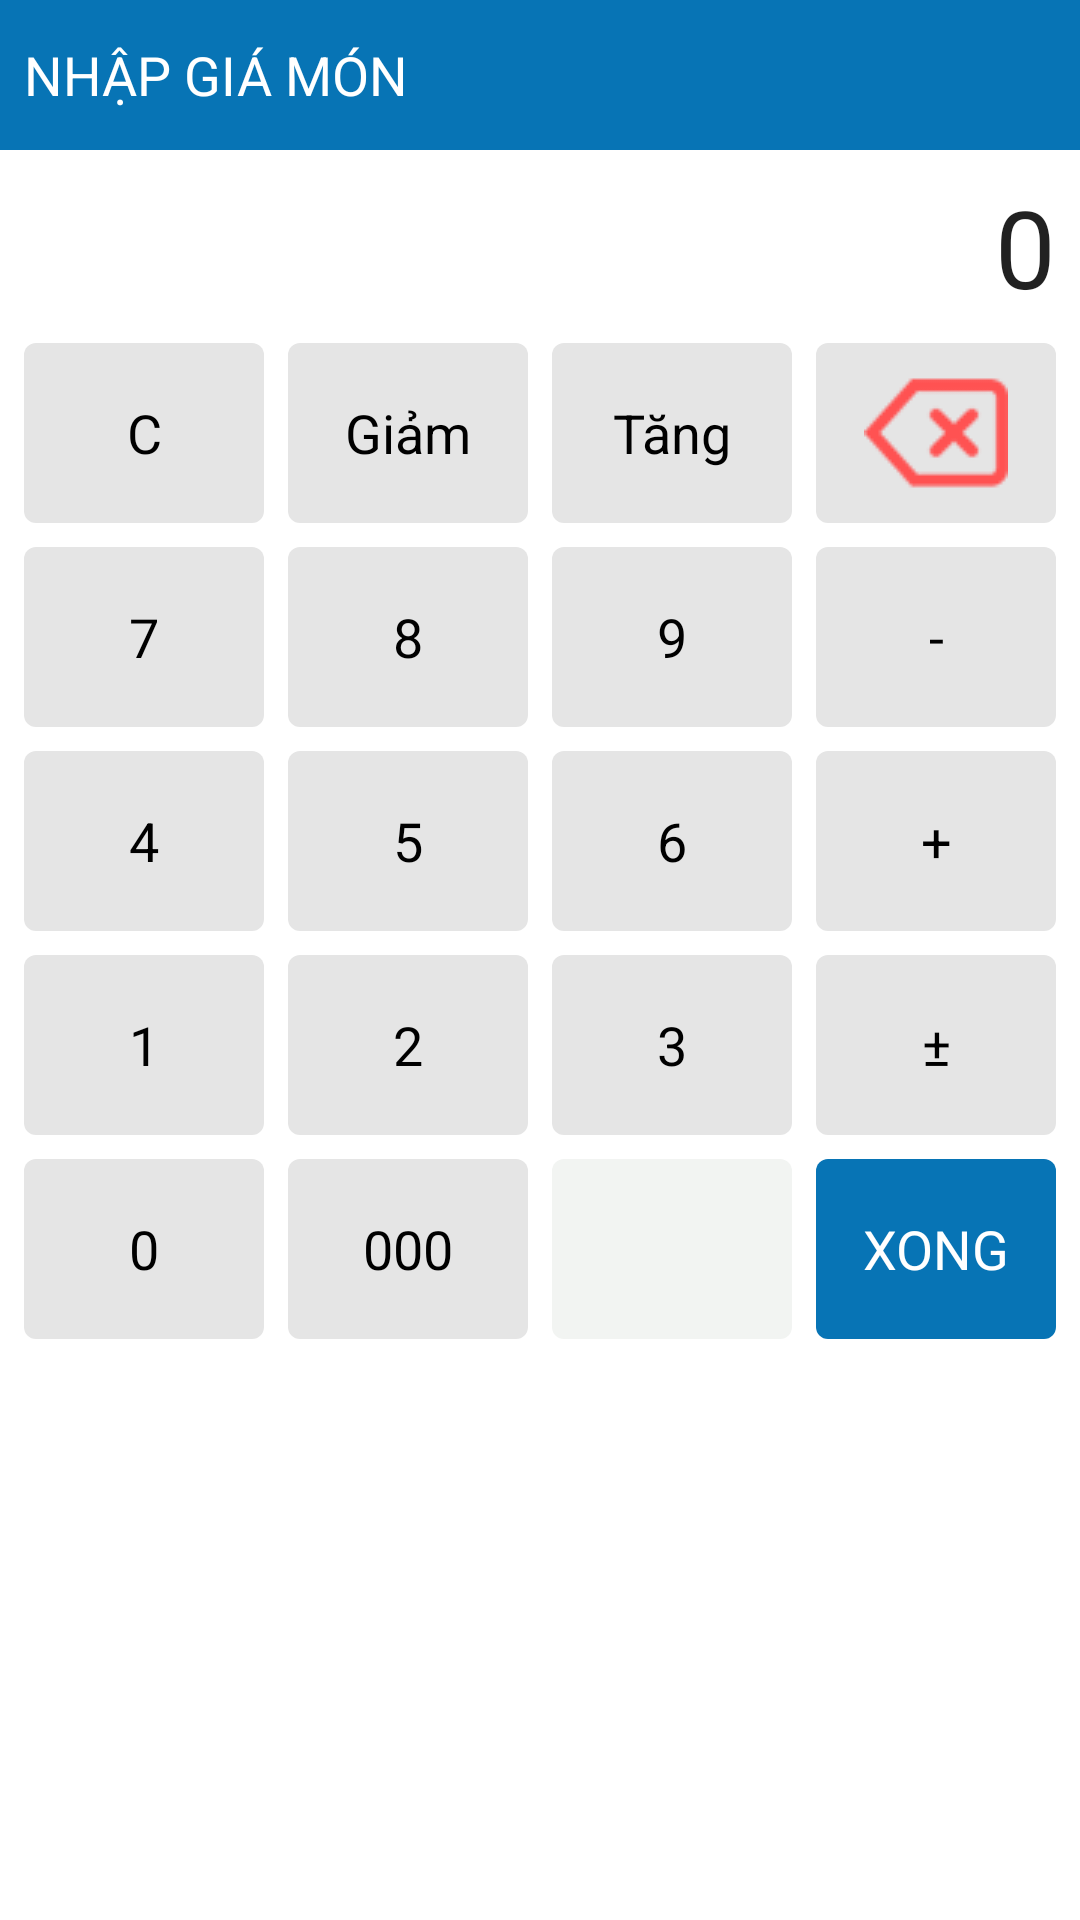

Icons on this 1080w x 1920h Android screen, each with its box as box=[x1, y1, x2, y2]:
back keyboard: box=[816, 343, 1056, 523]
